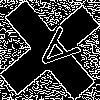A: (25, 25, 81, 80)
